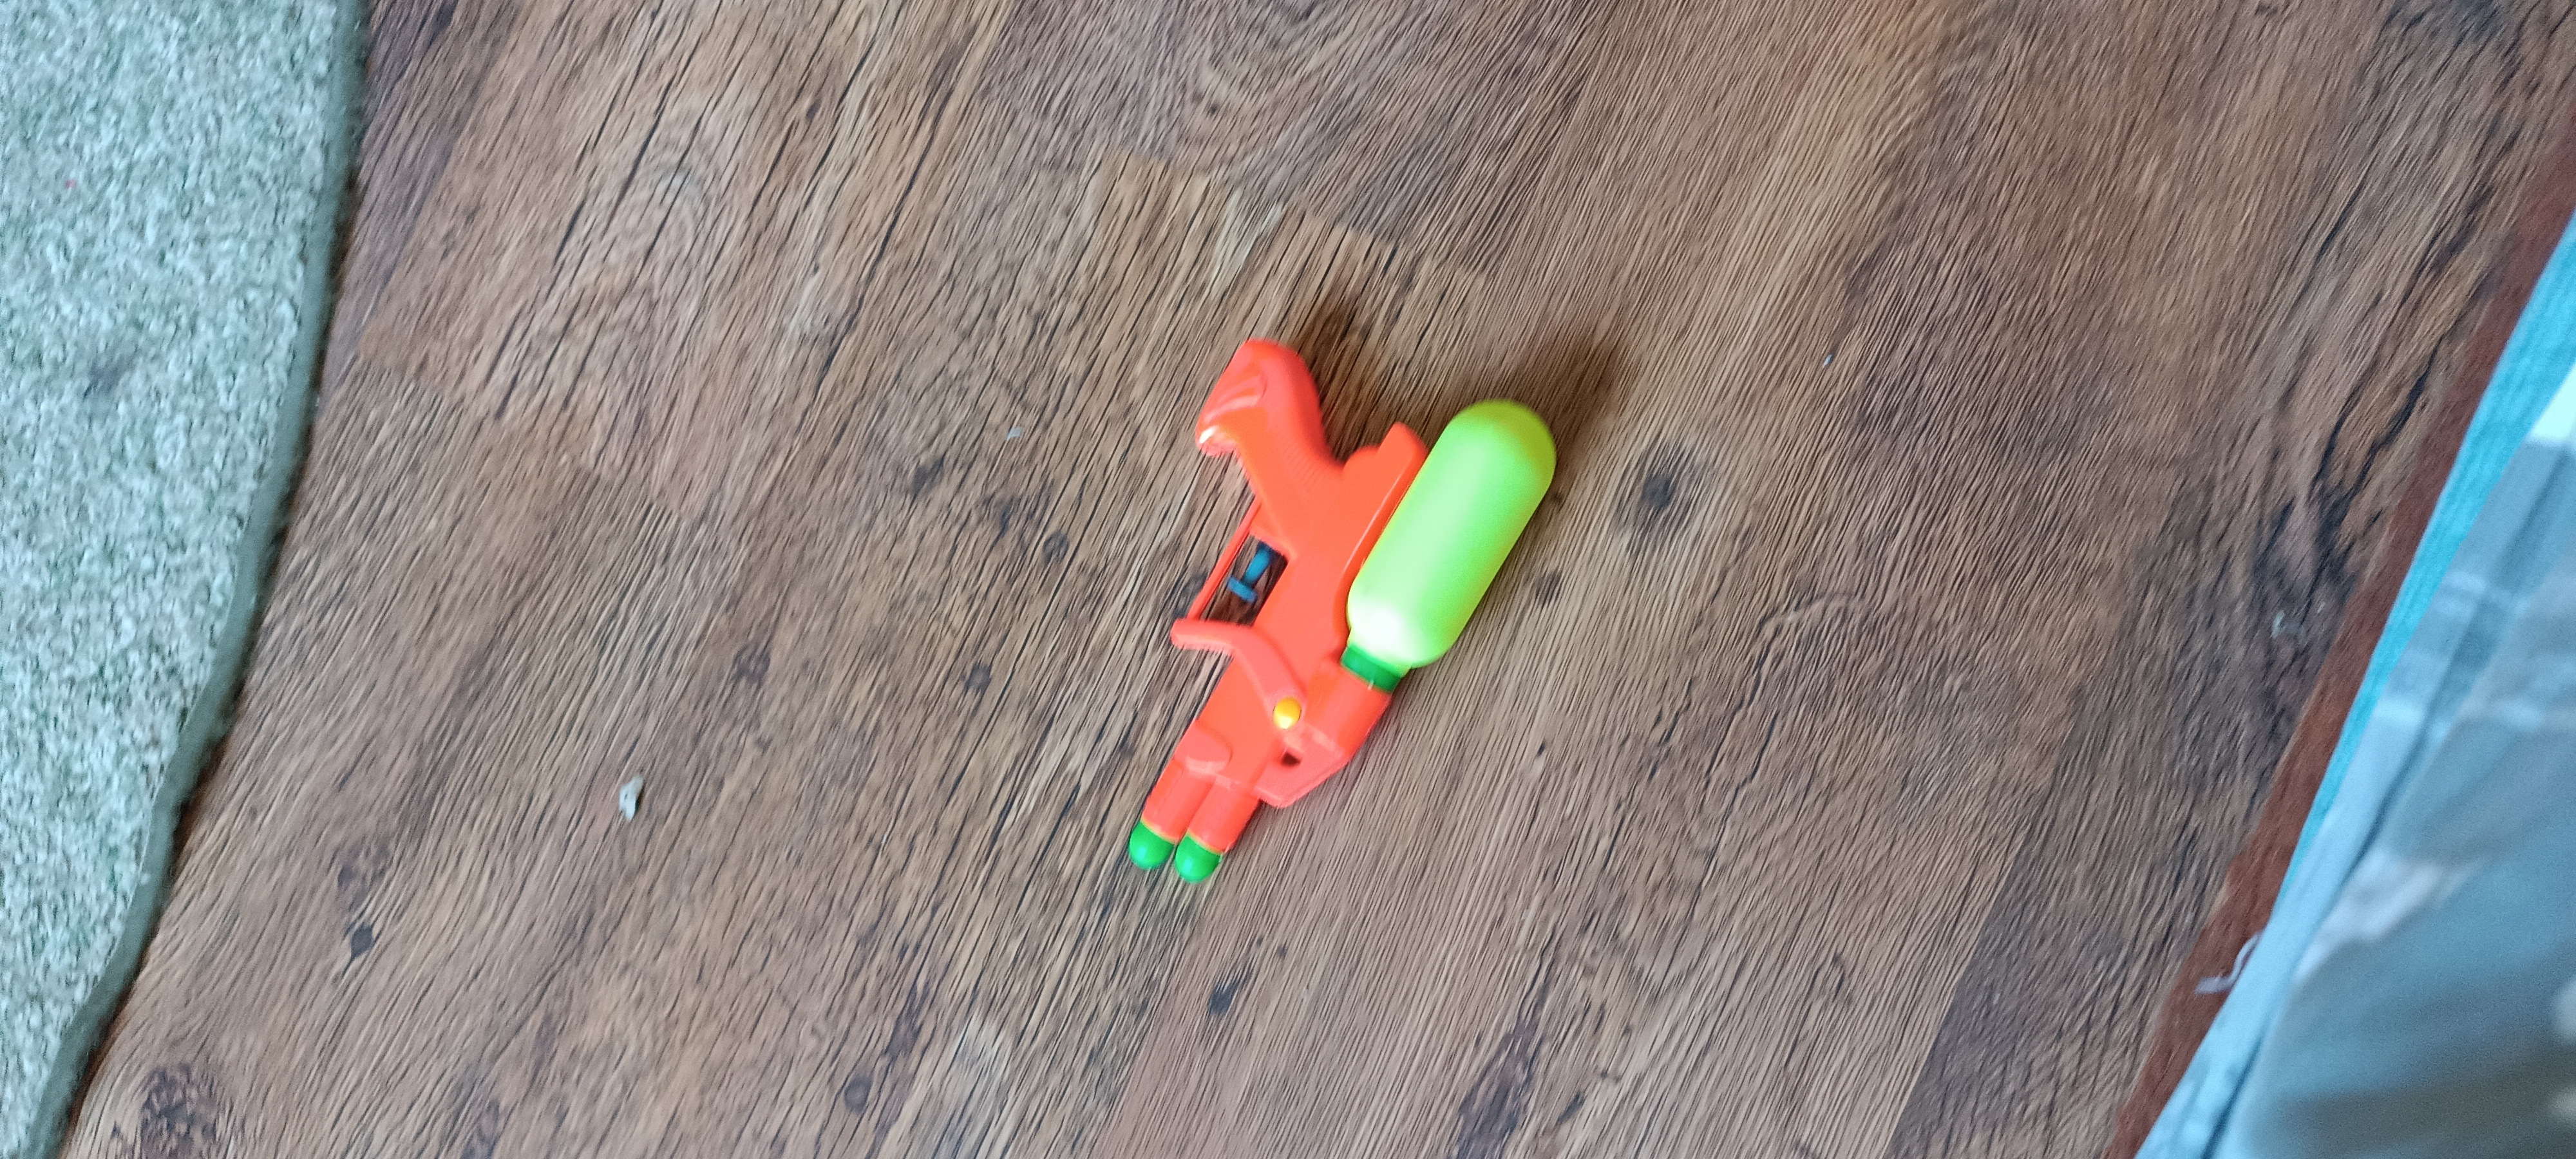Water Gun: (1127, 340, 1556, 886)
